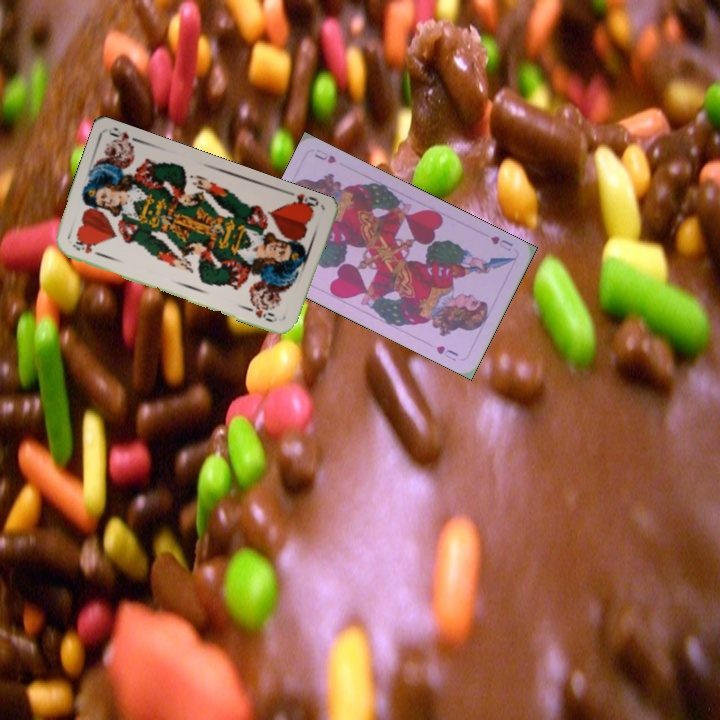HO: (283, 189, 322, 214), (68, 238, 106, 259)
HU: (486, 232, 515, 254)
